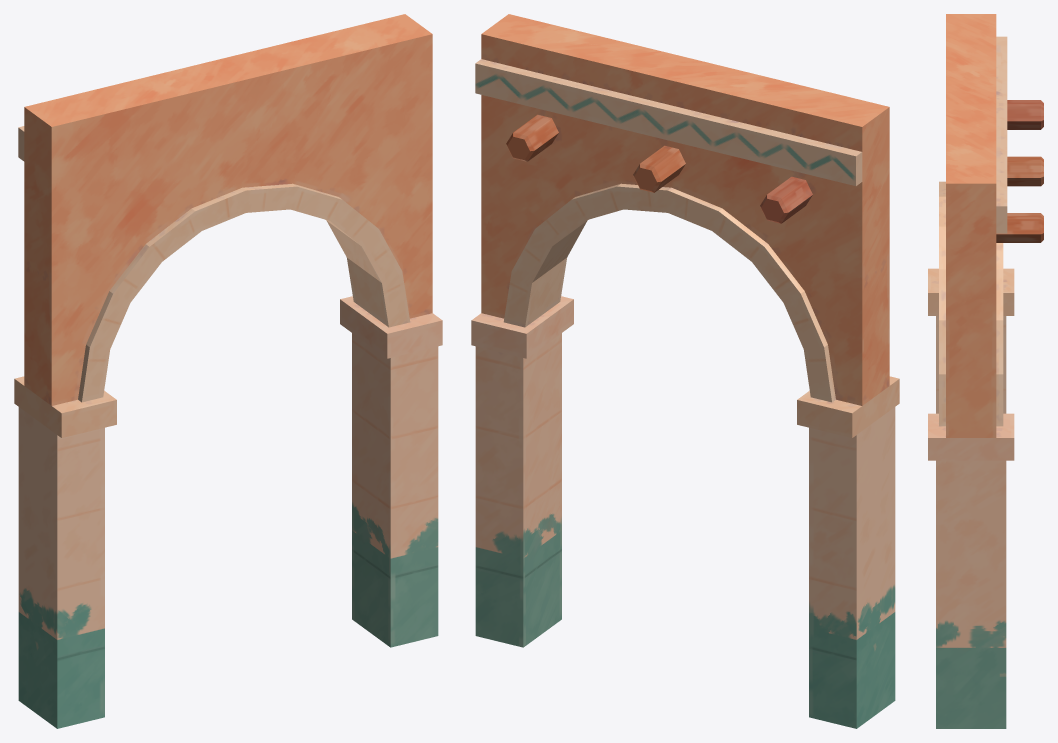
Rendered from wall2_arcade_low.fbx.
The picture shows the model from 3 angles, left to right: view 1: azimuth 30°, elevation 25°; view 2: azimuth 150°, elevation 25°; view 3: azimuth 270°, elevation 25°; orthographic projection. The views are drawn at different scales.
Visible parts, largest first — view 1: wall2_arcade; view 2: wall2_arcade; view 3: wall2_arcade.
Part boxes in pixels (bbox=[...]): wall2_arcade: bbox=[14, 14, 442, 728]; wall2_arcade: bbox=[471, 14, 899, 728]; wall2_arcade: bbox=[928, 14, 1043, 728].
Bounding box in the file's own units: 8 × 12 × 2.31.
1 material, 1 textured.
